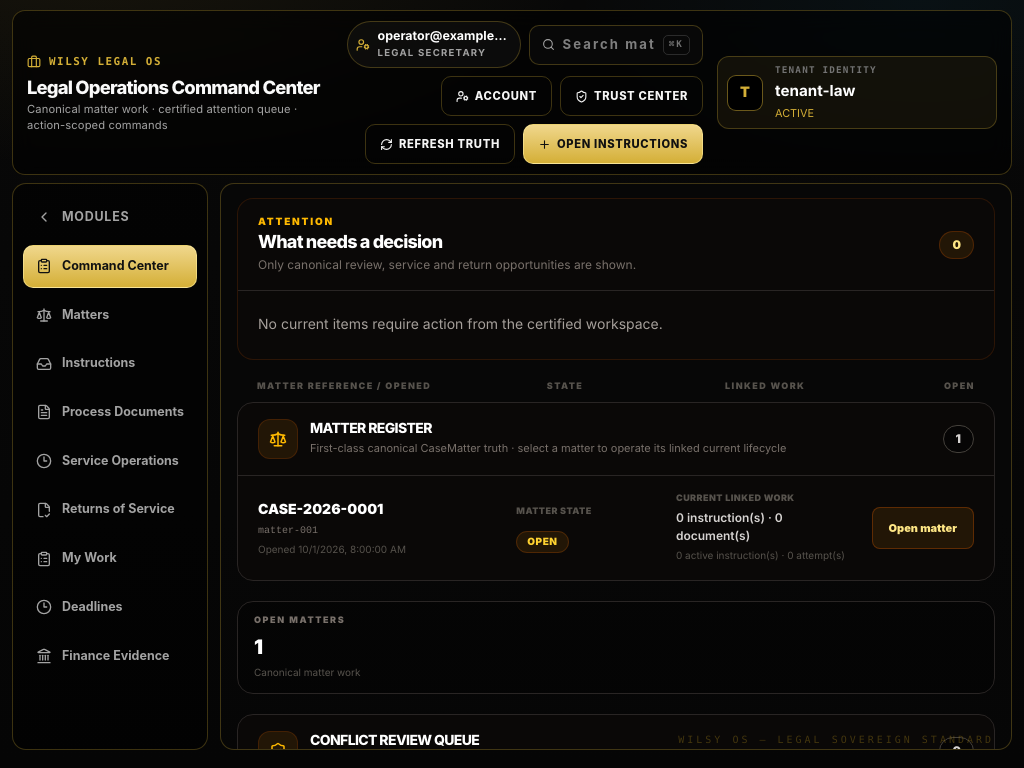
D4C Legal matter deadline create command › keeps Secretary read-only while preserving deadline visibility
Click the button "Deadlines".
click(110, 607)  # box [23,586,197,629]
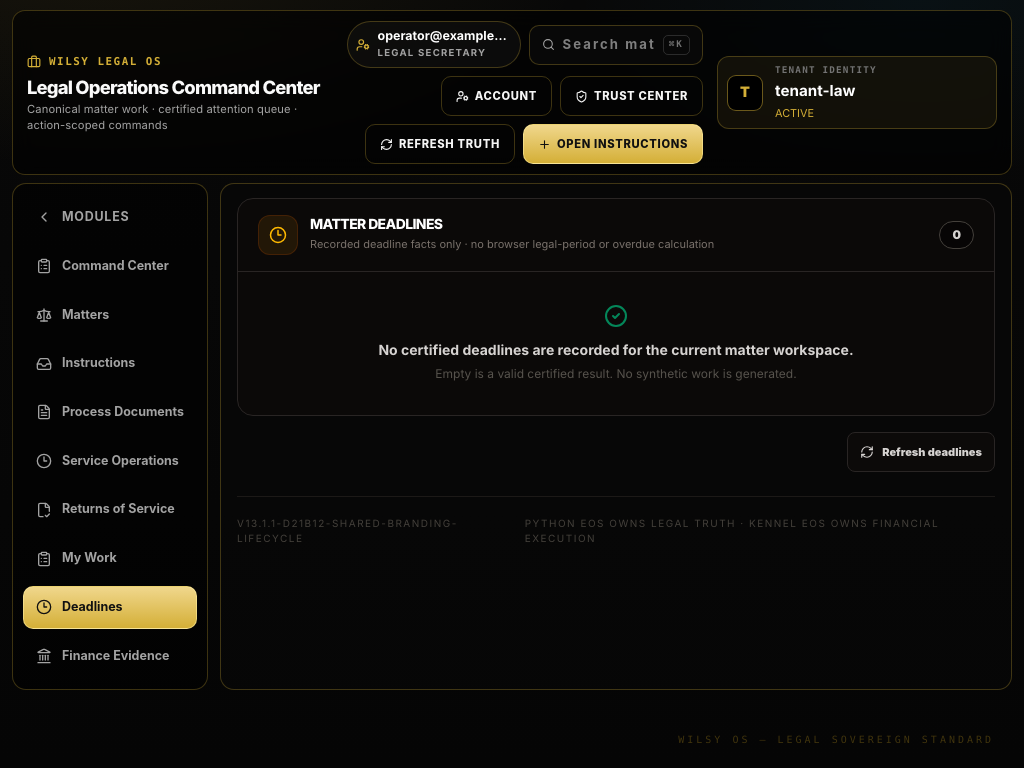
Check: the heading "Matter deadlines" is shown, box [310,216,442,233]
